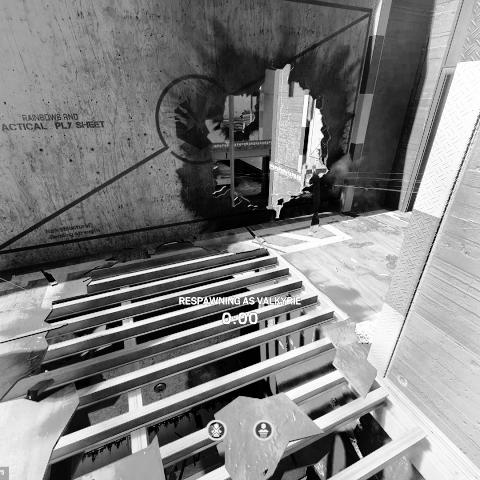Character: (226, 379, 263, 405)
Head: (242, 382, 258, 393)
